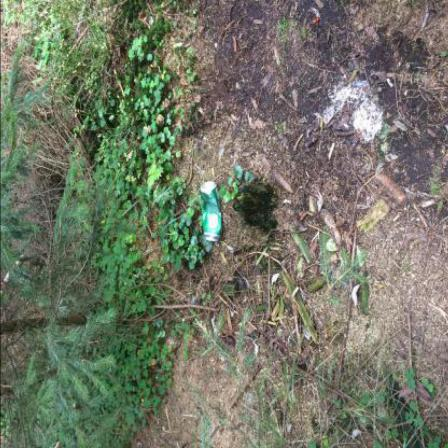Can: (202, 182, 223, 242)
